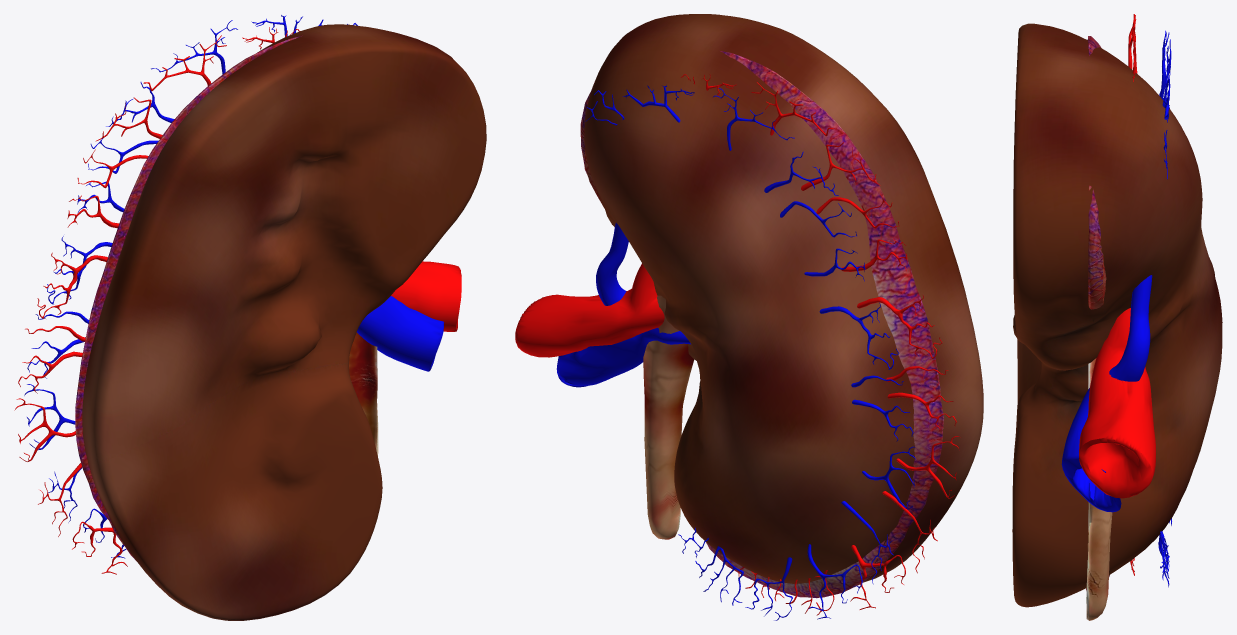
Rendered from kidney.tablet.glb.
3 renders of one model, left to right at view 1: azimuth 30°, elevation 25°; view 2: azimuth 150°, elevation 25°; view 3: azimuth 270°, elevation 25°, orthographic. The views are drawn at different scales.
Parts seen in each view (by area): view 1: Maya_2018:Capsule, Maya_2018:BLUE, Maya_2018:RED, Maya_2018:Cortex, Maya_2018:Ureter; view 2: Maya_2018:Capsule, Maya_2018:Cortex, Maya_2018:RED, Maya_2018:BLUE, Maya_2018:Ureter; view 3: Maya_2018:Capsule, Maya_2018:RED, Maya_2018:BLUE, Maya_2018:Ureter, Maya_2018:Cortex.
Boxes of the visible parts, bbox=[...] form: Maya_2018:Capsule: bbox=[82, 24, 486, 620]; Maya_2018:BLUE: bbox=[24, 15, 444, 558]; Maya_2018:RED: bbox=[14, 27, 461, 574]; Maya_2018:Cortex: bbox=[75, 35, 302, 560]; Maya_2018:Ureter: bbox=[349, 332, 378, 455]; Maya_2018:Capsule: bbox=[584, 14, 983, 583]; Maya_2018:Cortex: bbox=[580, 51, 943, 598]; Maya_2018:RED: bbox=[515, 74, 960, 615]; Maya_2018:BLUE: bbox=[556, 85, 915, 620]; Maya_2018:Ureter: bbox=[643, 295, 694, 539]; Maya_2018:Capsule: bbox=[1012, 23, 1222, 607]; Maya_2018:RED: bbox=[1079, 14, 1155, 575]; Maya_2018:BLUE: bbox=[1061, 30, 1171, 587]; Maya_2018:Ureter: bbox=[1086, 358, 1112, 620]; Maya_2018:Cortex: bbox=[1086, 36, 1109, 590].
Size of the model in its own units: 268987 by 317559 by 105026.
Materials: 6 (4 with a texture image).
